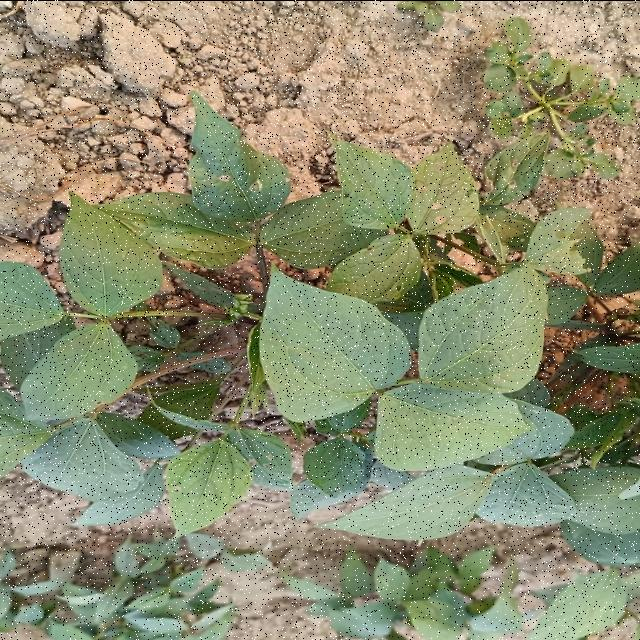plant: (0, 92, 638, 564)
